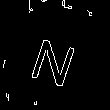N_N: (27, 24, 83, 86)
